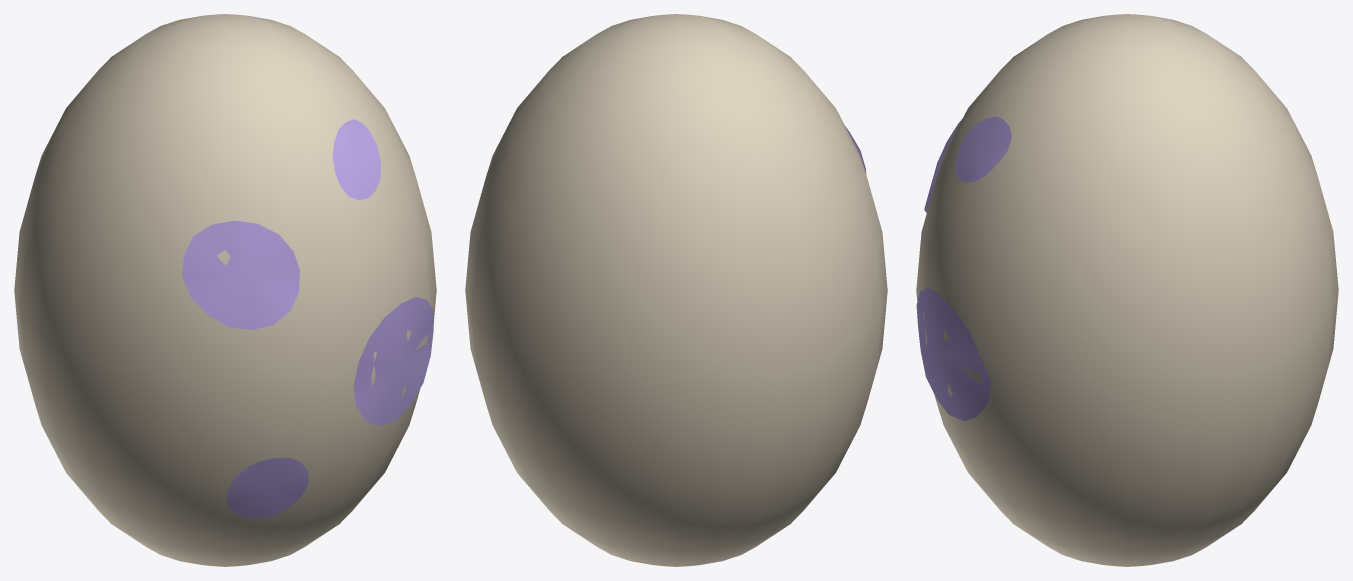
Rendered from icon_egg.glb.
The picture shows the model from 3 angles, left to right: view 1: azimuth 30°, elevation 25°; view 2: azimuth 150°, elevation 25°; view 3: azimuth 270°, elevation 25°; orthographic projection.
Visible parts, largest first — view 1: icon_egg; view 2: icon_egg; view 3: icon_egg.
Part boxes in pixels (x1,y1,x2,y2): icon_egg: (14,14,436,566); icon_egg: (465,14,887,566); icon_egg: (916,14,1338,566).
Bounding box in the file's own units: 0.32 × 0.44 × 0.32.
